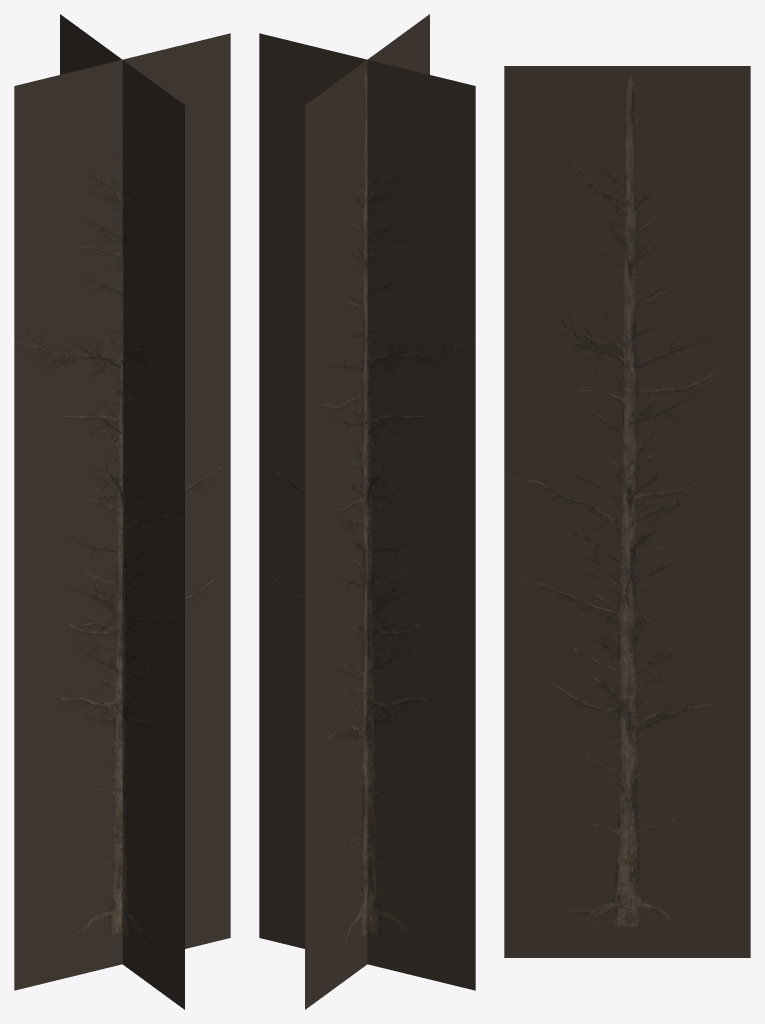
Rendered from Dead_tree1_LOD4.fbx.
3 views of the same model, side by side, from view 1: azimuth 30°, elevation 25°; view 2: azimuth 150°, elevation 25°; view 3: azimuth 270°, elevation 25° (orthographic).
Visible parts, largest first — view 1: polySurface3363; view 2: polySurface3363; view 3: polySurface3363.
Part boxes in pixels (box(x1,y1,x2,y2)): polySurface3363: box(14, 14, 230, 1009); polySurface3363: box(259, 14, 475, 1009); polySurface3363: box(504, 66, 750, 957).
Size of the model in its own units: 661 by 2644 by 661.
